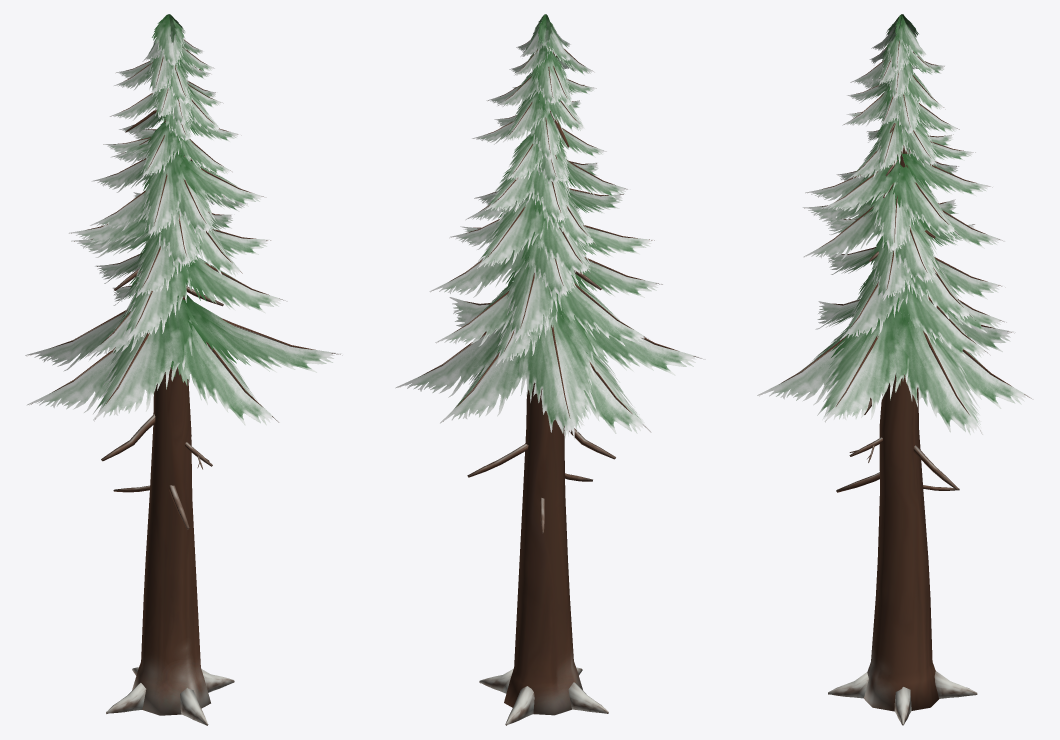
Rendered from PineTree03.fbx.
The picture shows the model from 3 angles, left to right: view 1: azimuth 30°, elevation 25°; view 2: azimuth 150°, elevation 25°; view 3: azimuth 270°, elevation 25°; orthographic projection.
Visible parts, largest first — view 1: Cylinder, pineNeedles02.044, pineNeedles02.059, pineNeedles02.045, pineNeedles02.057, pineNeedles02.054, pineNeedles02.077, pineNeedles02.040, pineNeedles02.069, pineNeedles02.078, pineNeedles02.043, pineNeedles02.066 (+17 smaller); view 2: Cylinder, pineNeedles02.043, pineNeedles02.060, pineNeedles02.039, pineNeedles02.064, pineNeedles02.042, pineNeedles02.044, pineNeedles02.040, pineNeedles02.061, pineNeedles02.058, pineNeedles02.056, pineNeedles02.065 (+23 smaller); view 3: Cylinder, pineNeedles02.059, pineNeedles02.042, pineNeedles02.058, pineNeedles02.054, pineNeedles02.075, pineNeedles02.045, pineNeedles02.067, pineNeedles02.039, pineNeedles02.071, pineNeedles02.078, pineNeedles02.056 (+24 smaller).
Boxes of the visible parts, left/top/right/bottom form: Cylinder: left=132, top=117, right=210, bottom=715; pineNeedles02.044: left=93, top=295, right=194, bottom=420; pineNeedles02.059: left=184, top=298, right=341, bottom=372; pineNeedles02.045: left=171, top=299, right=278, bottom=425; pineNeedles02.057: left=123, top=262, right=191, bottom=341; pineNeedles02.054: left=185, top=255, right=285, bottom=313; pineNeedles02.077: left=142, top=151, right=182, bottom=238; pineNeedles02.040: left=26, top=347, right=119, bottom=412; pineNeedles02.069: left=132, top=232, right=186, bottom=297; pineNeedles02.078: left=180, top=154, right=265, bottom=206; pineNeedles02.043: left=25, top=309, right=127, bottom=371; pineNeedles02.066: left=147, top=210, right=204, bottom=267; Cylinder: left=504, top=382, right=582, bottom=715; pineNeedles02.043: left=516, top=307, right=599, bottom=439; pineNeedles02.060: left=506, top=256, right=566, bottom=342; pineNeedles02.039: left=440, top=352, right=527, bottom=423; pineNeedles02.064: left=477, top=194, right=550, bottom=268; pineNeedles02.042: left=395, top=327, right=515, bottom=397; pineNeedles02.044: left=585, top=323, right=702, bottom=375; pineNeedles02.040: left=583, top=352, right=650, bottom=433; pineNeedles02.061: left=557, top=278, right=650, bottom=346; pineNeedles02.058: left=435, top=282, right=513, bottom=346; pineNeedles02.056: left=429, top=246, right=529, bottom=297; pineNeedles02.065: left=532, top=219, right=590, bottom=274; Cylinder: left=864, top=145, right=938, bottom=711; pineNeedles02.059: left=817, top=309, right=909, bottom=421; pineNeedles02.042: left=892, top=302, right=983, bottom=434; pineNeedles02.058: left=897, top=282, right=990, bottom=358; pineNeedles02.054: left=840, top=265, right=912, bottom=340; pineNeedles02.075: left=892, top=165, right=958, bottom=235; pineNeedles02.045: left=757, top=324, right=849, bottom=405; pineNeedles02.067: left=880, top=217, right=939, bottom=283; pineNeedles02.039: left=939, top=333, right=1033, bottom=408; pineNeedles02.071: left=868, top=188, right=915, bottom=254; pineNeedles02.078: left=821, top=156, right=900, bottom=212; pineNeedles02.056: left=904, top=256, right=975, bottom=320.
Bounding box in the file's own units: 799 × 1875 × 748.
